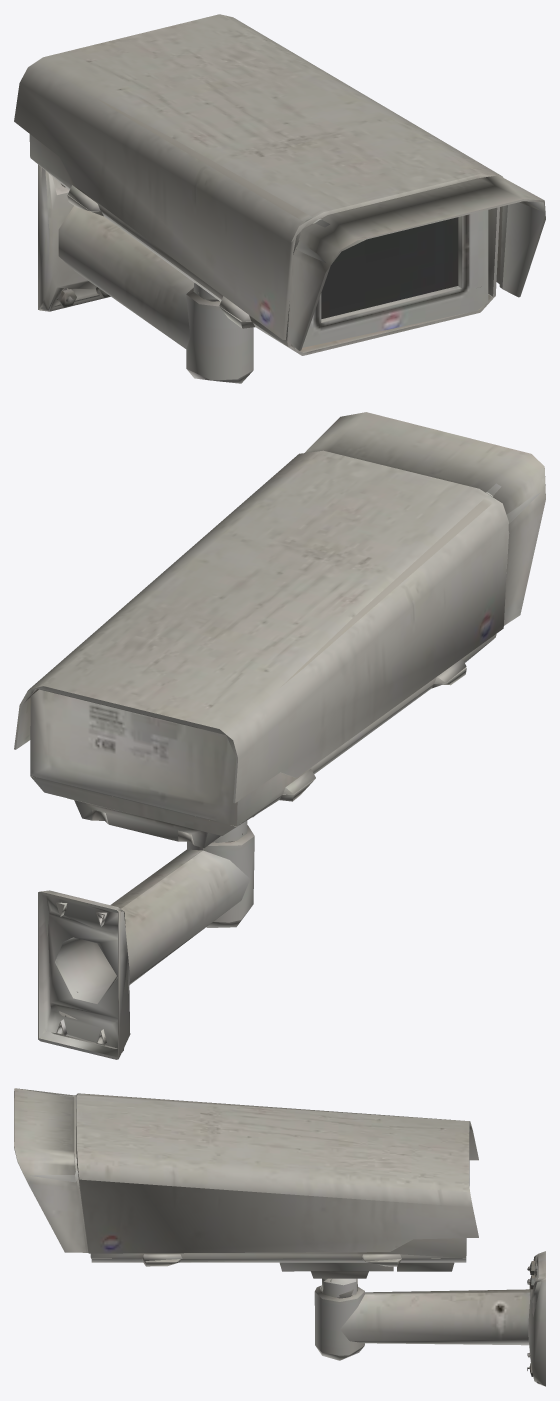
The model's file is security_camera_02.glb.
The picture shows the model from 3 angles, top to bottom: view 1: azimuth 30°, elevation 25°; view 2: azimuth 150°, elevation 25°; view 3: azimuth 270°, elevation 25°; orthographic projection. The views are drawn at different scales.
Parts seen in each view (by area): view 1: security_camera_02_mount, security_camera_02; view 2: security_camera_02_mount; view 3: security_camera_02_mount.
Part boxes in pixels (x1=…): security_camera_02_mount: x1=14, y1=14, x2=545, y2=383; security_camera_02: x1=321, y1=217, x2=458, y2=318; security_camera_02_mount: x1=14, y1=412, x2=545, y2=1059; security_camera_02_mount: x1=14, y1=1088, x2=545, y2=1386.
Size of the model in its own units: 0.1406 by 0.208 by 0.3934.
2 materials, 2 textured.
